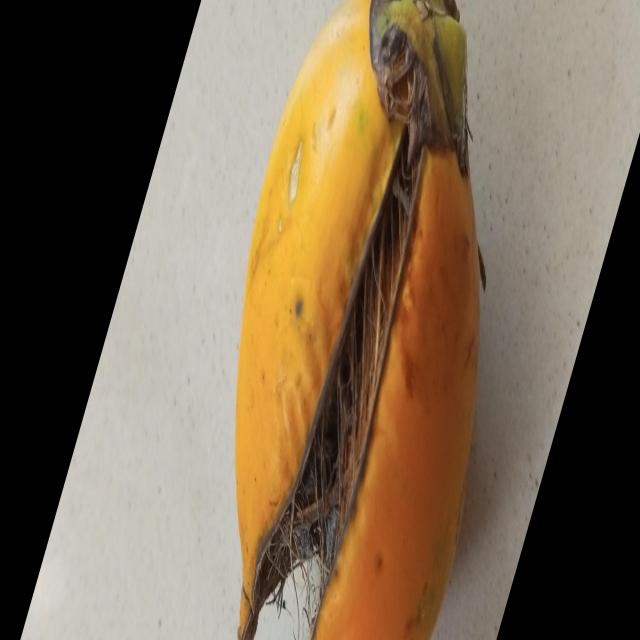damaged: (233, 0, 480, 640)
